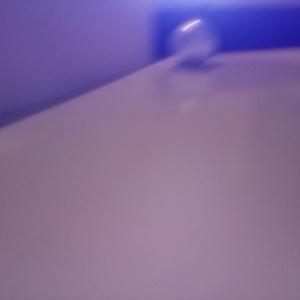alive_ball: (168, 18, 220, 64)
